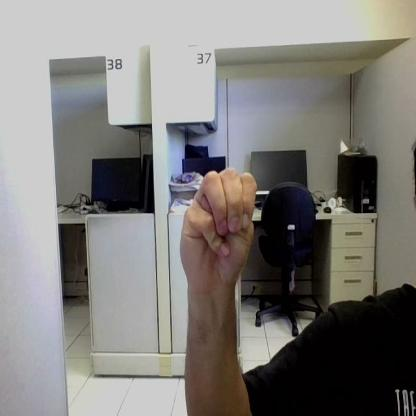M: (180, 168, 257, 285)
